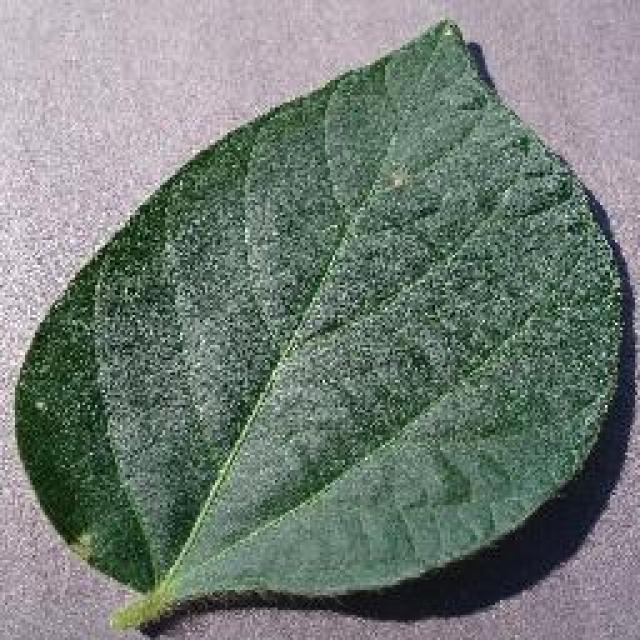Soy_healthy: (70, 38, 576, 568)
